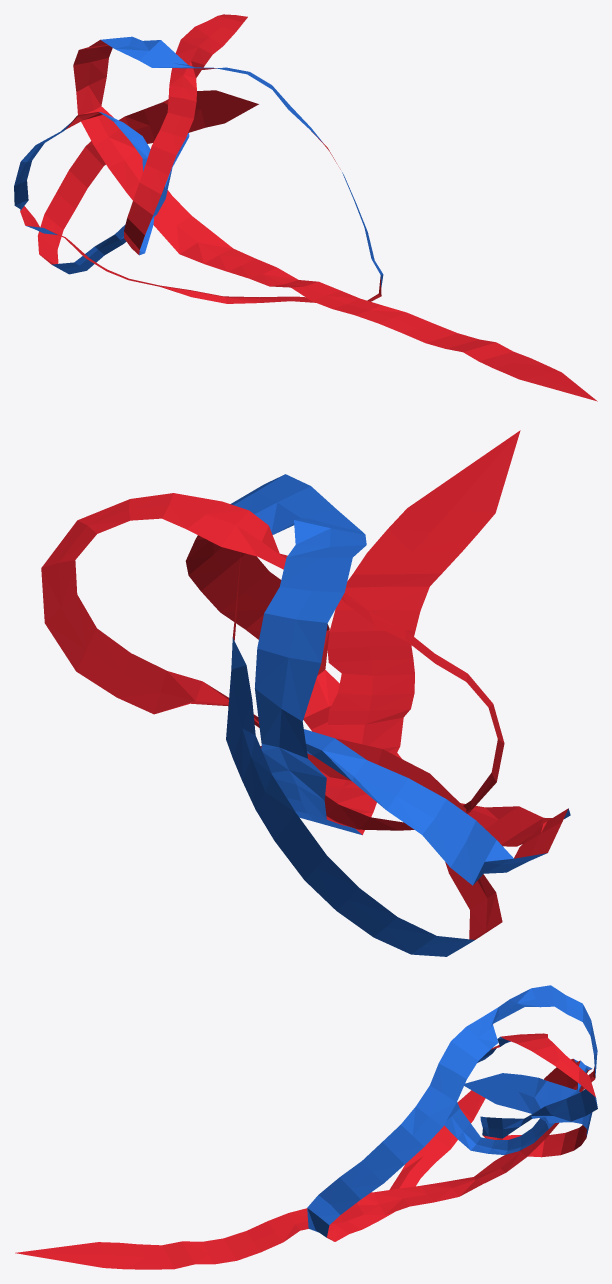
3 renders of one model, top to bottom at view 1: azimuth 30°, elevation 25°; view 2: azimuth 150°, elevation 25°; view 3: azimuth 270°, elevation 25°, orthographic. The views are drawn at different scales.
Parts seen in each view (by area): view 1: 1657; view 2: 1657; view 3: 1657.
Part boxes in pixels (x1,y1,x2,y2): 1657: (14,14,597,401); 1657: (41,430,570,956); 1657: (15,985,597,1269).
Size of the model in its own units: 0.6562 by 0.4348 by 1.19.
